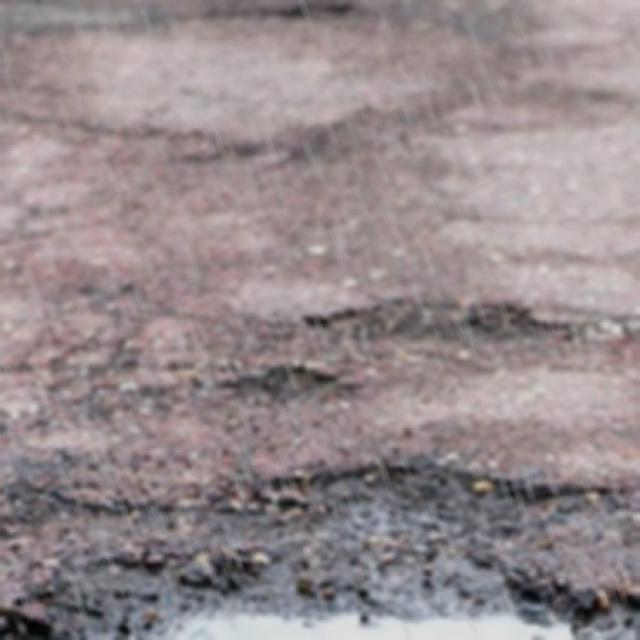road-pothole: (0, 449, 638, 639)
